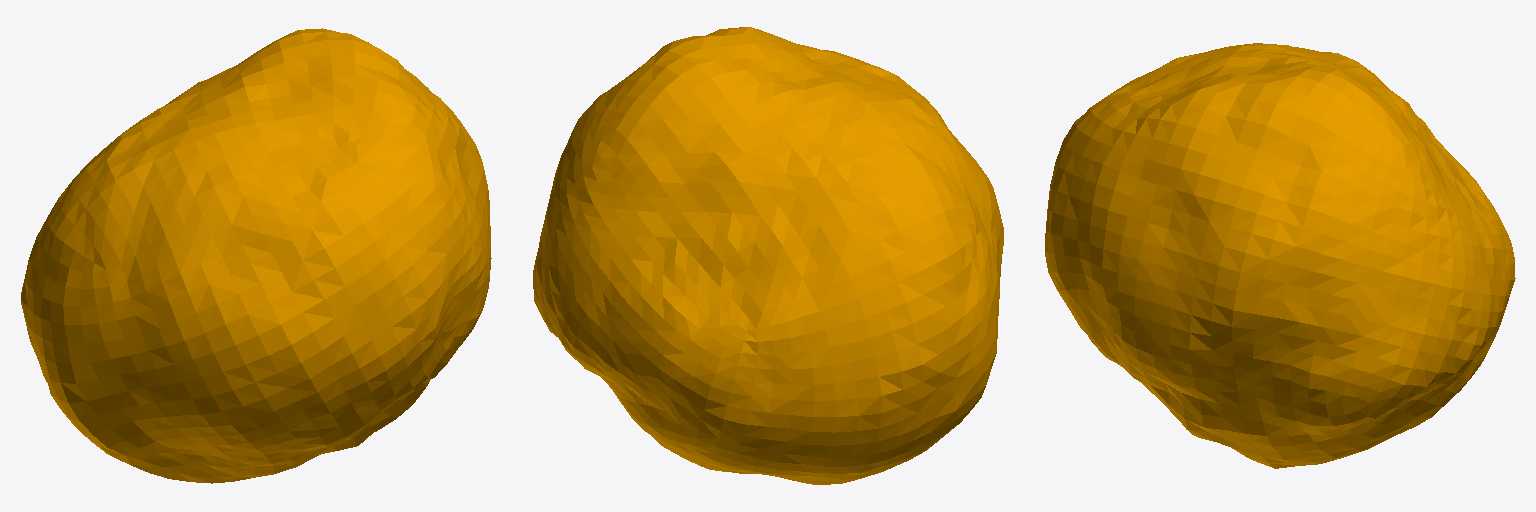
robot.urdf — rock:
<?xml version="1.0" ?>
<robot name="rock">
  <link name="rock">
    <inertial>
      <mass value="0.241"/>
      <origin rpy="0 0 0" xyz="0 0 0"/>
      <inertia ixx="0.000241" ixy="0" ixz="0" iyy="0.000241" iyz="0" izz="0.000241"/>
    </inertial>
    <collision name="rock_collision">
      <origin rpy="0 0 0" xyz="0 0 0"/>
      <geometry>
        <mesh filename="package://rocks/visual/97.dae" scale="1 1 1"/>
      </geometry>
    </collision>
    <visual name="rock_visual">
      <origin rpy="0 0 0" xyz="0 0 0"/>
      <geometry>
        <mesh filename="package://rocks/visual/97.dae" scale="1 1 1"/>
      </geometry>
    </visual>
  </link>
</robot>

--- Facts derived from the render (not from the file) ---
3 views of the same robot in one strip: view 1: azimuth 30°, elevation 25°; view 2: azimuth 150°, elevation 25°; view 3: azimuth 270°, elevation 25° (orthographic).
Model rock with 1 links and 0 joints (none), rooted at rock, posed every joint at zero.
Links seen in each view (by area): view 1: rock; view 2: rock; view 3: rock.
Link boxes in pixels (bbox=[...]): rock: bbox=[21, 28, 491, 483]; rock: bbox=[533, 27, 1003, 484]; rock: bbox=[1045, 43, 1515, 468].
Bounding box of the posed robot: 0.0834 × 0.0809 × 0.0772 m (x, y, z).
Meshes: 1 distinct files referenced, 1 mesh visuals loaded (1 Collada DAE).